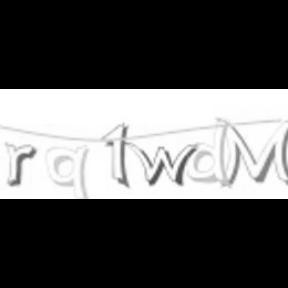1: (101, 116, 133, 192)
M: (216, 114, 288, 188)
d: (184, 116, 234, 190)
q: (44, 142, 90, 200)
r: (1, 142, 37, 188)
w: (130, 141, 200, 187)
